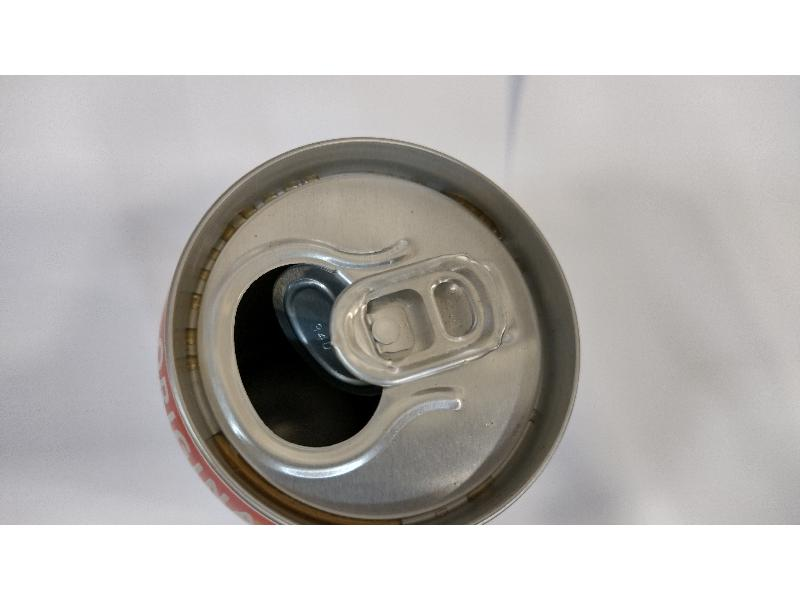can: (151, 130, 585, 524)
